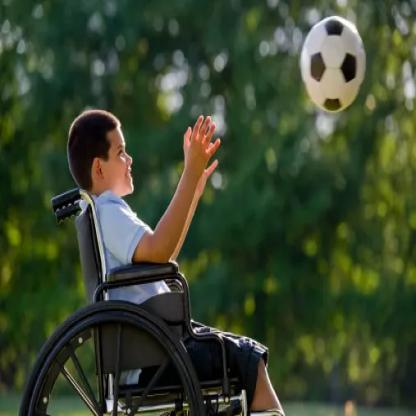wheelchair: (16, 108, 288, 414)
